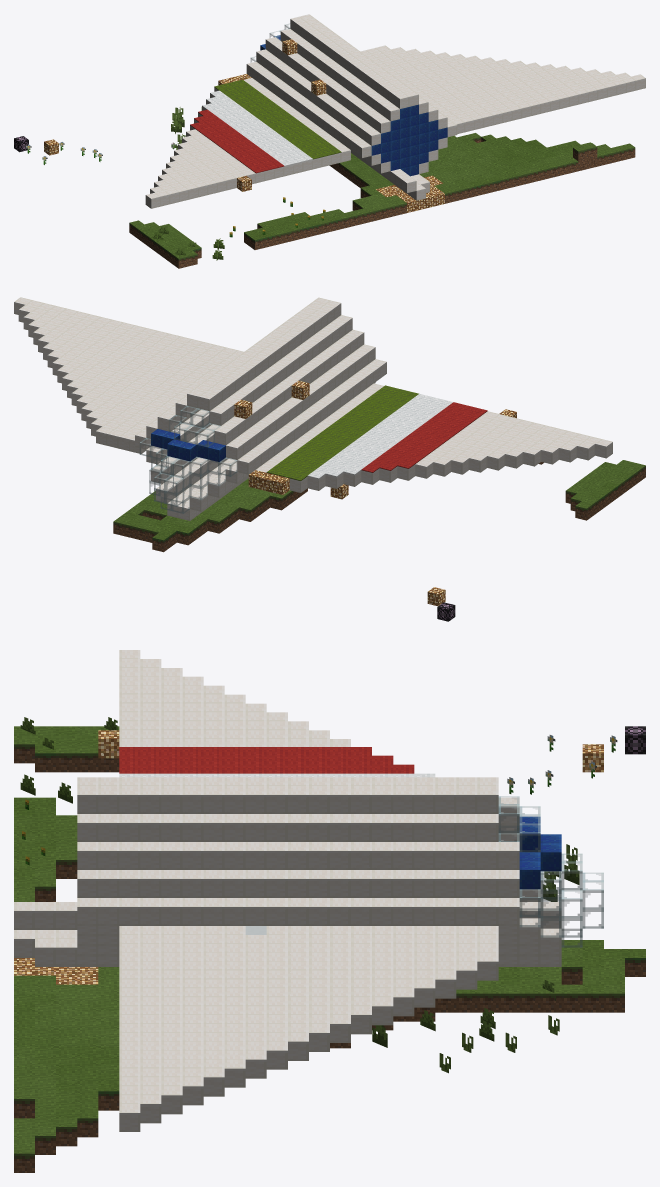
File: rovinaAereo.glb
3 views of the same model, one above another, from view 1: azimuth 30°, elevation 25°; view 2: azimuth 150°, elevation 25°; view 3: azimuth 270°, elevation 25° (orthographic). The views are drawn at different scales.
Parts seen in each view (by area): view 1: node_4, node_10, node_1, node_7, node_12, node_14, node_2, node_11; view 2: node_7, node_12, node_4, node_10, node_1, node_14, node_2, node_5, node_8; view 3: node_7, node_4, node_1, node_10, node_2, node_14, node_12, node_5, node_8, node_6, node_11.
Boxes of the visible parts, box(x1,y1,x2,y2) form: node_4: box(312, 58, 530, 219); node_10: box(166, 122, 378, 249); node_1: box(465, 64, 645, 182); node_7: box(246, 14, 464, 166); node_12: box(174, 74, 311, 155); node_14: box(129, 167, 201, 268); node_2: box(421, 50, 540, 84); node_11: box(92, 107, 201, 161); node_7: box(86, 341, 327, 545); node_12: box(248, 417, 487, 499); node_4: box(146, 297, 386, 416); node_10: box(328, 383, 555, 470); node_1: box(14, 297, 190, 372); node_14: box(523, 428, 645, 520); node_2: box(47, 350, 144, 421); node_5: box(139, 405, 237, 513); node_8: box(113, 517, 176, 552); node_7: box(266, 777, 603, 1048); node_4: box(14, 777, 266, 1055); node_1: box(14, 979, 266, 1172); node_10: box(14, 694, 266, 901); node_2: box(266, 979, 435, 1069); node_14: box(14, 650, 224, 772); node_12: box(266, 712, 435, 777); node_5: box(498, 796, 603, 947); node_8: box(604, 949, 645, 1012); node_6: box(372, 980, 559, 1073); node_11: box(507, 777, 579, 901).
Bounding box in the file's own units: 52 × 10.38 × 30.
3 materials, 3 textured.
